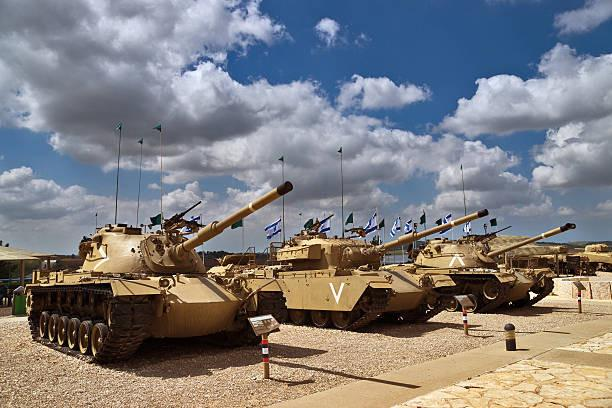tank: (22, 179, 293, 362), (208, 208, 490, 331), (413, 223, 572, 313)
